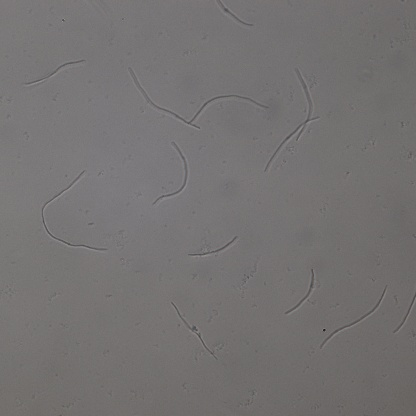Sensitive: (39, 166, 107, 255), (129, 68, 201, 130), (323, 285, 387, 348), (265, 117, 320, 170), (171, 303, 218, 360), (153, 140, 189, 205), (190, 93, 268, 123), (26, 57, 86, 85), (295, 65, 314, 143), (285, 269, 316, 316), (188, 235, 239, 258), (217, 1, 254, 28), (395, 295, 416, 332)
